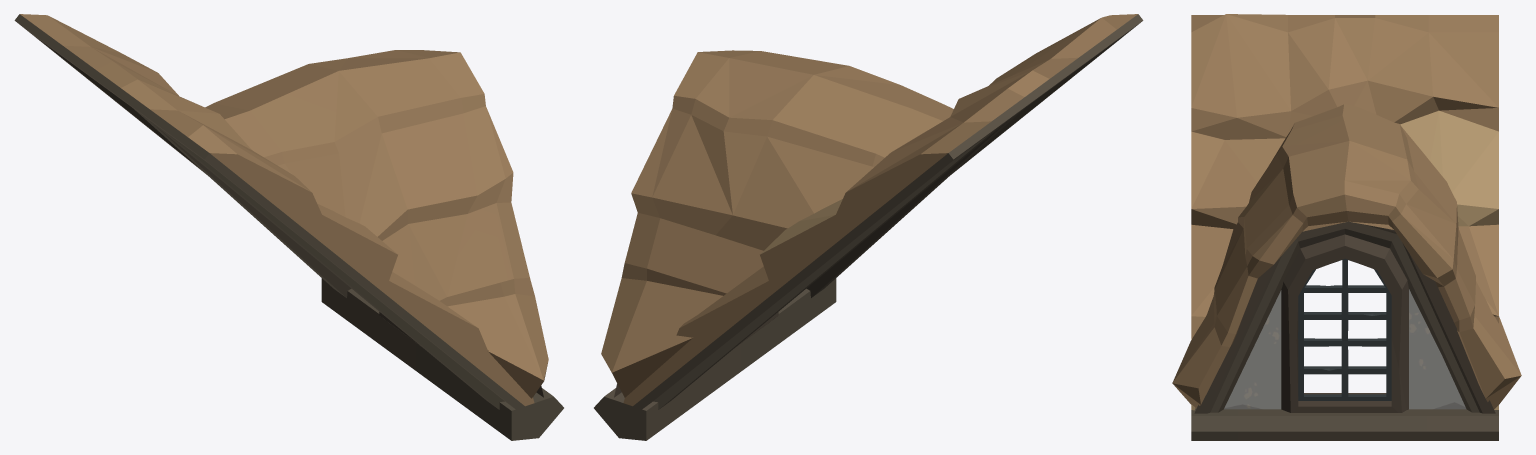
Rendered from kingdom_SM_Bld_House_Roof_Thatch_Window_03.gltf.
The picture shows the model from 3 angles, left to right: view 1: azimuth 30°, elevation 25°; view 2: azimuth 150°, elevation 25°; view 3: azimuth 270°, elevation 25°; orthographic projection. The views are drawn at different scales.
Parts seen in each view (by area): view 1: SM_Bld_House_Roof_Thatch_Window_03; view 2: SM_Bld_House_Roof_Thatch_Window_03; view 3: SM_Bld_House_Roof_Thatch_Window_03.
Part boxes in pixels (x1,y1,x2,y2): SM_Bld_House_Roof_Thatch_Window_03: [14, 14, 563, 440]; SM_Bld_House_Roof_Thatch_Window_03: [594, 14, 1143, 440]; SM_Bld_House_Roof_Thatch_Window_03: [1172, 14, 1521, 440].
Size of the model in its own units: 2.74 by 2.72 by 2.84.
1 material, 1 textured.
